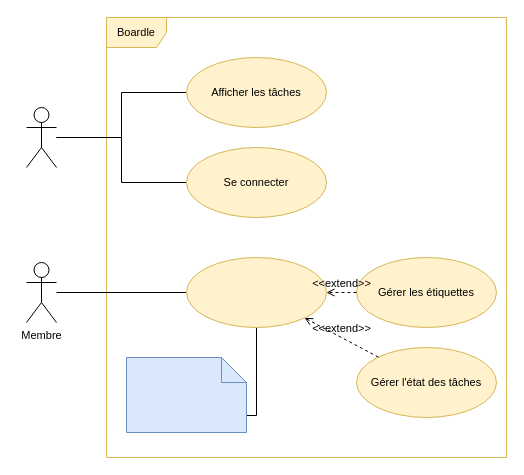
Image size: 524x475. Some labels were removed from this diagram. The centre of each missing label's shape, as x and y in pixels:
Gérer les tâches: the point at 256,292
Gérer les tâches : - Ajouter, - Modifier, - Supprimer: the point at 186,394
Utilisateur: the point at 41,137
